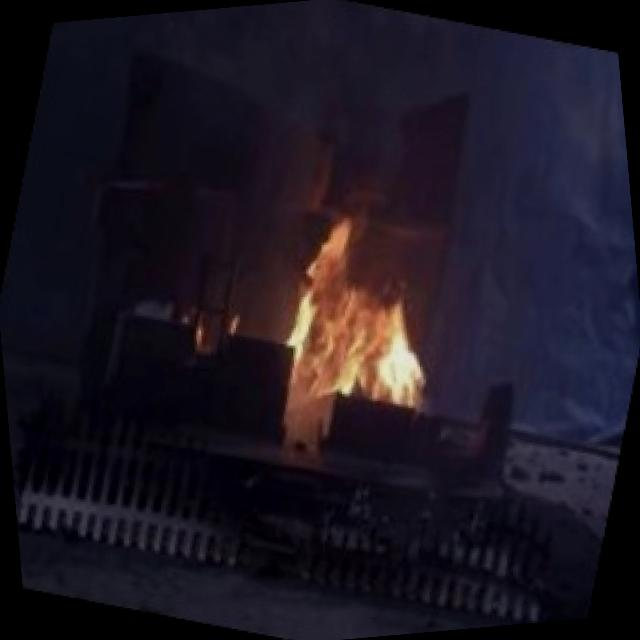fire: (216, 156, 497, 457)
